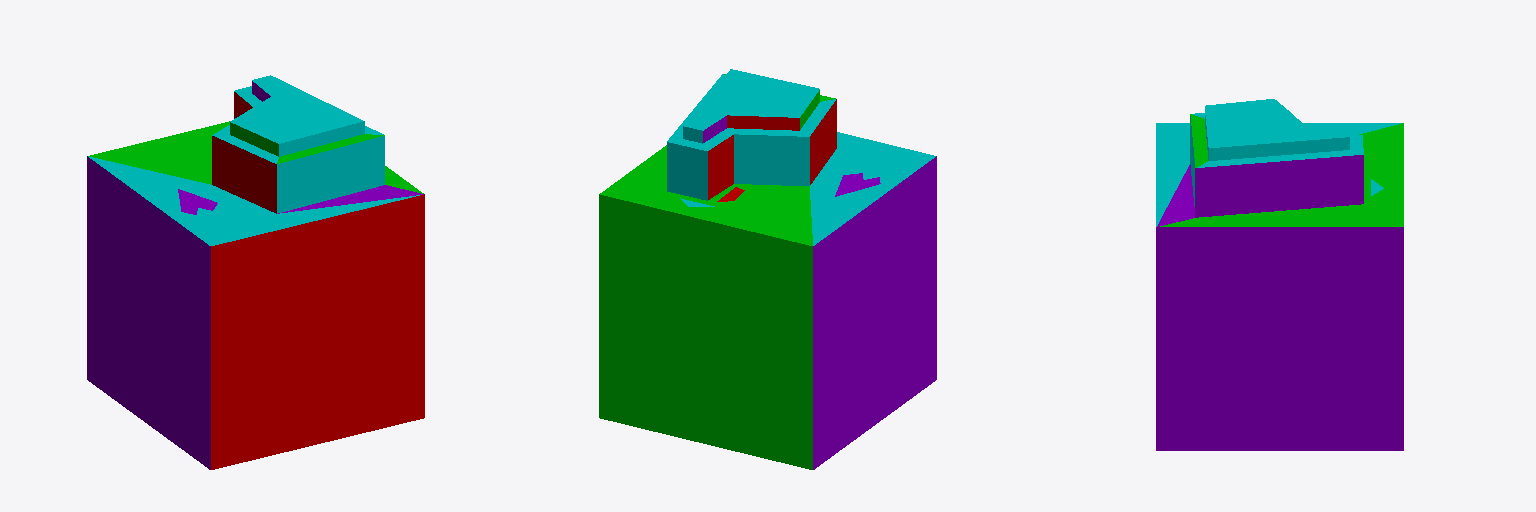
File: testCube.obj
The picture shows the model from 3 angles: view 1: azimuth 30°, elevation 25°; view 2: azimuth 150°, elevation 25°; view 3: azimuth 270°, elevation 25°; orthographic projection.
Parts seen in each view (by area): view 1: Cube.001; view 2: Cube.001; view 3: Cube.001.
Part boxes in pixels (x1,y1,x2,y2): Cube.001: (87,75,424,469); Cube.001: (599,69,936,469); Cube.001: (1156,99,1403,450).
Bounding box in the file's own units: 2 × 2.56 × 2.